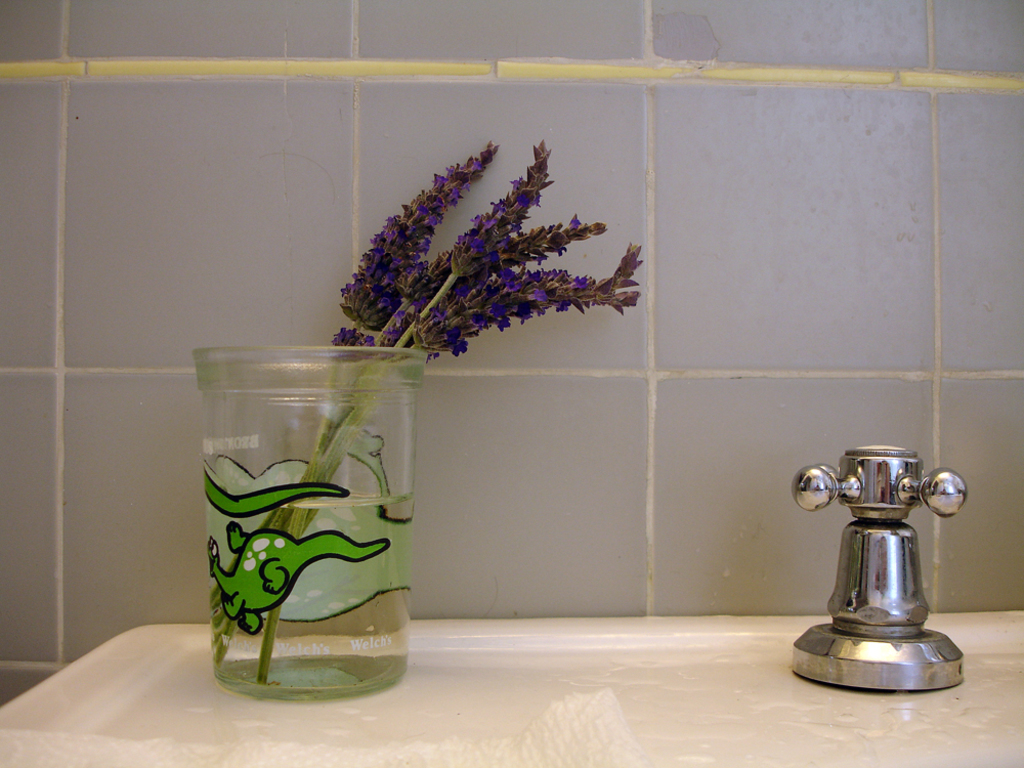tap: (766, 494, 987, 691)
